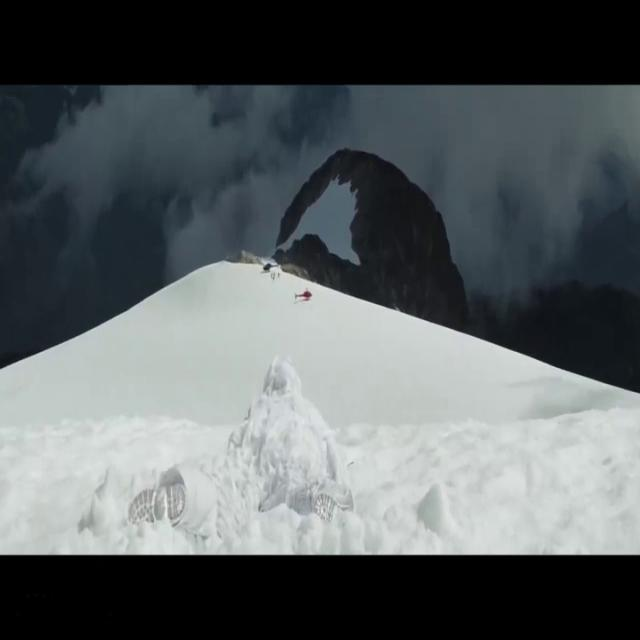Camouflage: (123, 351, 355, 531)
